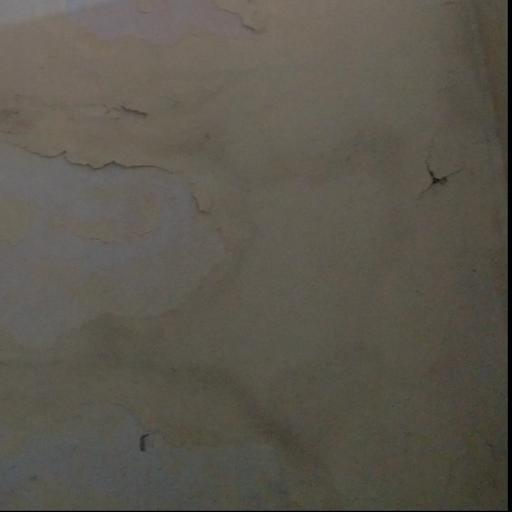peeling: (0, 126, 284, 365), (2, 375, 285, 512), (0, 0, 283, 77), (390, 125, 489, 220)
